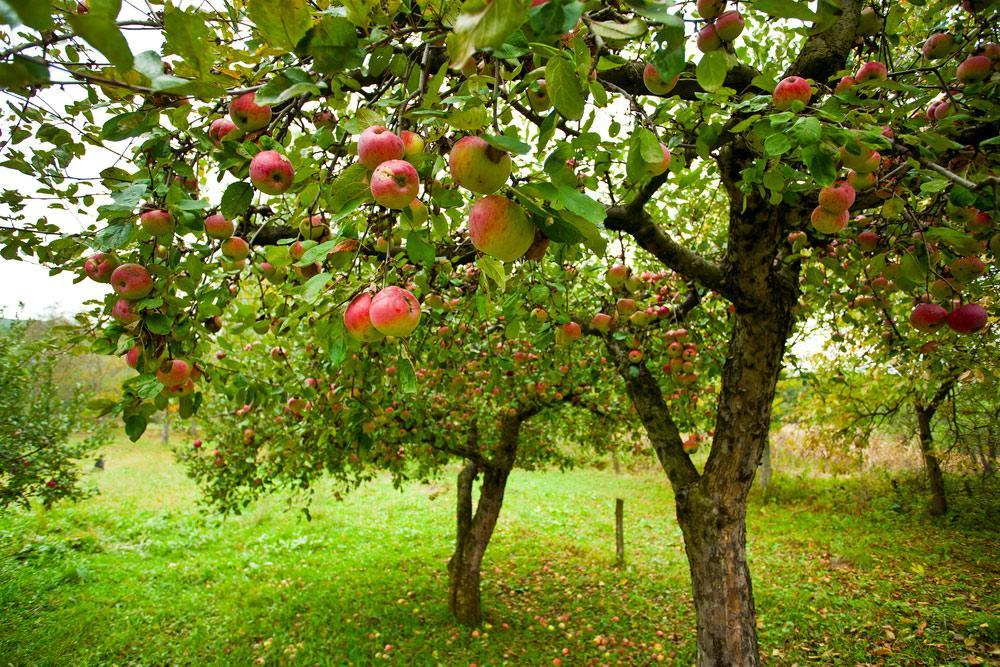apple: (465, 192, 536, 261), (447, 134, 513, 195), (368, 285, 420, 337), (371, 158, 418, 207), (355, 125, 405, 166), (249, 150, 293, 195), (226, 88, 270, 133), (344, 293, 382, 341), (108, 263, 154, 299), (772, 77, 812, 113), (641, 61, 679, 96), (945, 302, 987, 333), (818, 181, 855, 214), (153, 358, 189, 390), (908, 302, 947, 331), (84, 251, 120, 282), (812, 203, 848, 234), (956, 56, 993, 85), (139, 207, 175, 236), (712, 11, 743, 41), (203, 212, 234, 240), (220, 235, 249, 262), (853, 60, 887, 83), (695, 23, 720, 53)
